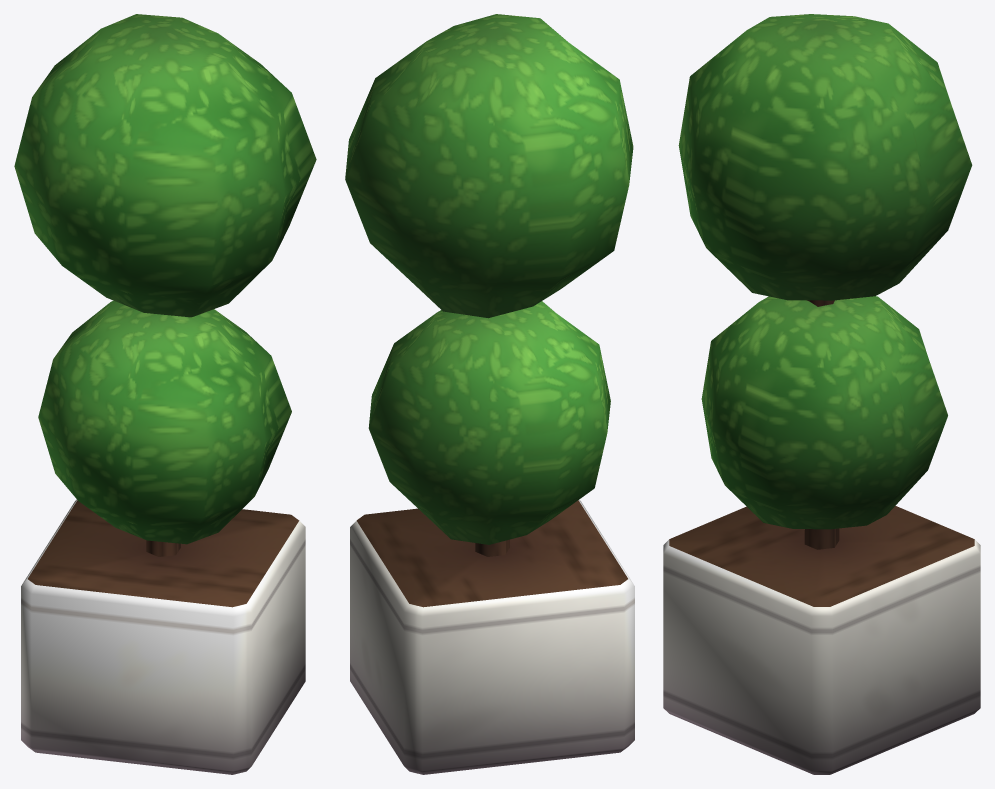
The model's file is topiary_tree.obj.
3 views of the same model, side by side, from view 1: azimuth 30°, elevation 25°; view 2: azimuth 150°, elevation 25°; view 3: azimuth 270°, elevation 25° (orthographic).
Visible parts, largest first — view 1: TopiaryTree; view 2: TopiaryTree; view 3: TopiaryTree.
Part boxes in pixels (bbox=[...]): TopiaryTree: bbox=[14, 14, 316, 774]; TopiaryTree: bbox=[345, 14, 634, 774]; TopiaryTree: bbox=[663, 14, 980, 774].
Bounding box in the file's own units: 1.06 × 2.54 × 1.06.
1 material, 1 textured.
